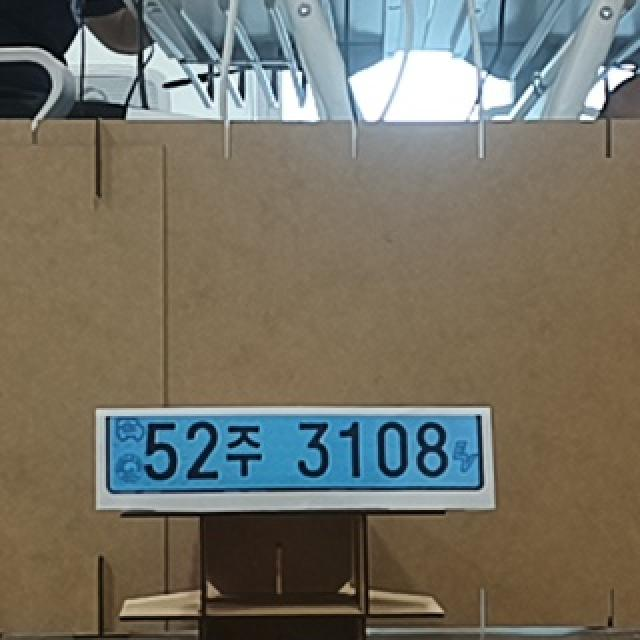electric: (105, 413, 488, 492)
